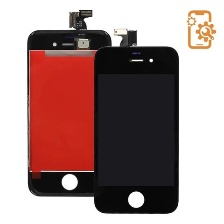phone: (89, 41, 182, 215), (24, 25, 113, 200)
